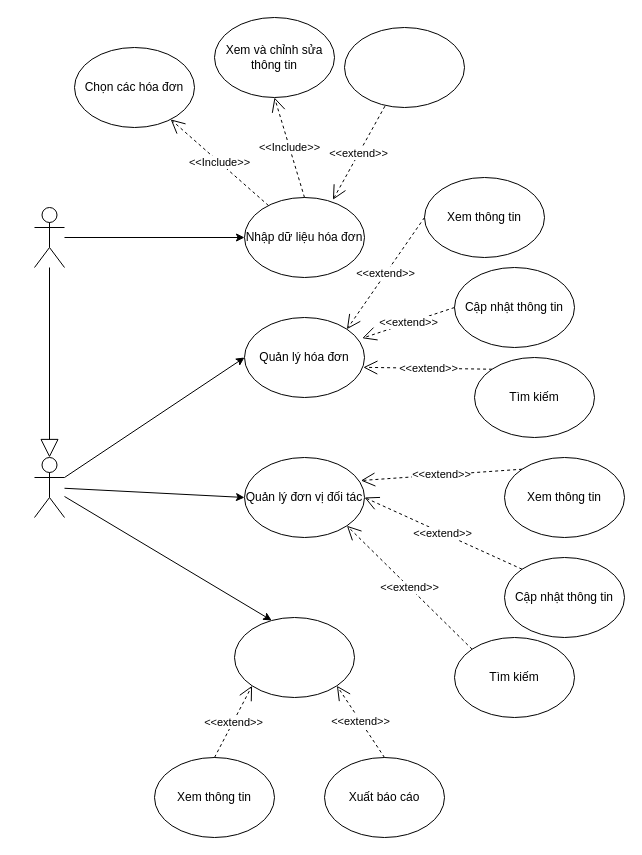
Image size: 642x855. Some labels were removed from this diagram. The box of each missing label's shape, as (x1, y1, x2, y2) in pixels:
Người dùng: (34, 206, 64, 268)
Quản lý: (34, 456, 64, 518)
Thống kê và xuất báo cáo: (234, 616, 354, 698)
Xuất excel: (344, 26, 464, 108)
